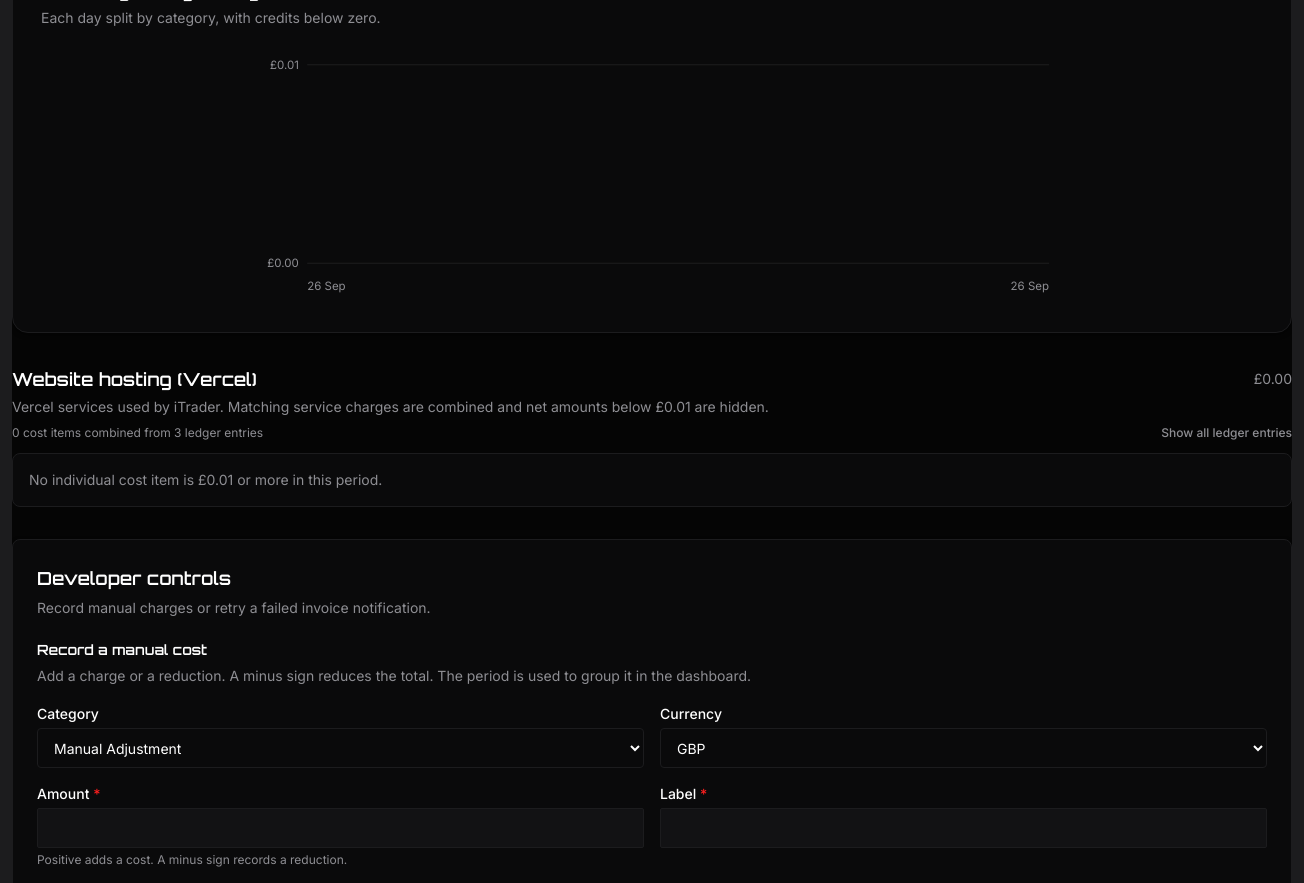
Test case: admin costs dashboard T5 › keeps zero-value ledger detail out of the client view but available to the owner
The width and height of the screenshot is (1304, 883).
(page scrolled)
Check: the text "0 cost items combined from 3 ledger entries" is shown, box [12, 425, 263, 441]
Check: the text "No individual cost item is £0.01 or more in this period." is shown, box [12, 453, 1292, 507]
Click the button "Show all ledger entries" at point(1227, 433), box [1161, 425, 1292, 441]
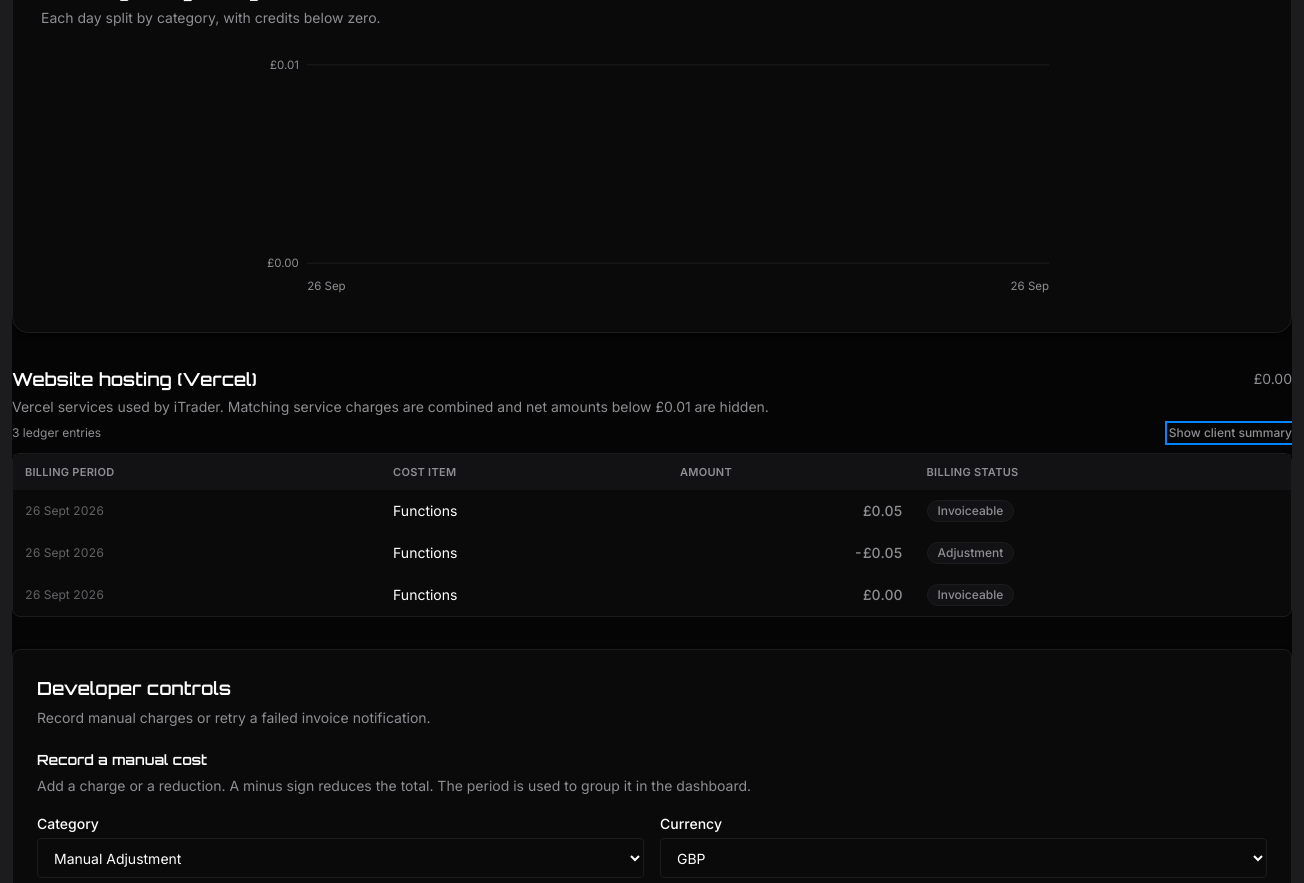
Check: the text "Functions" is shown 3 times, box [381, 490, 668, 532]; [381, 532, 668, 574]; [381, 574, 668, 616]
Check: the text "Adjustment" is shown, box [927, 542, 1014, 564]
